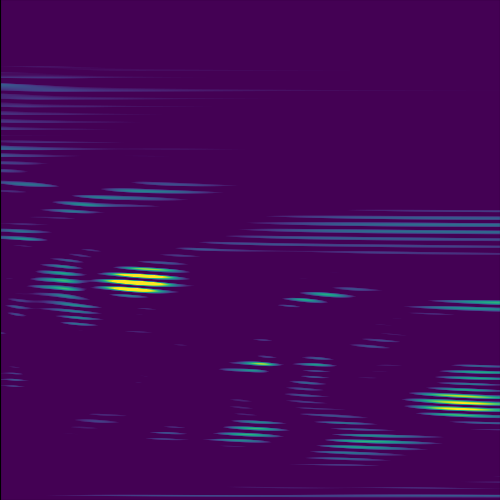semblance: (401, 388, 500, 424), (92, 266, 189, 297)
